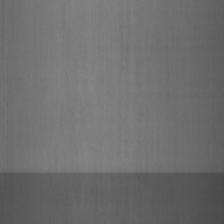welding_line: (2, 165, 224, 186)
